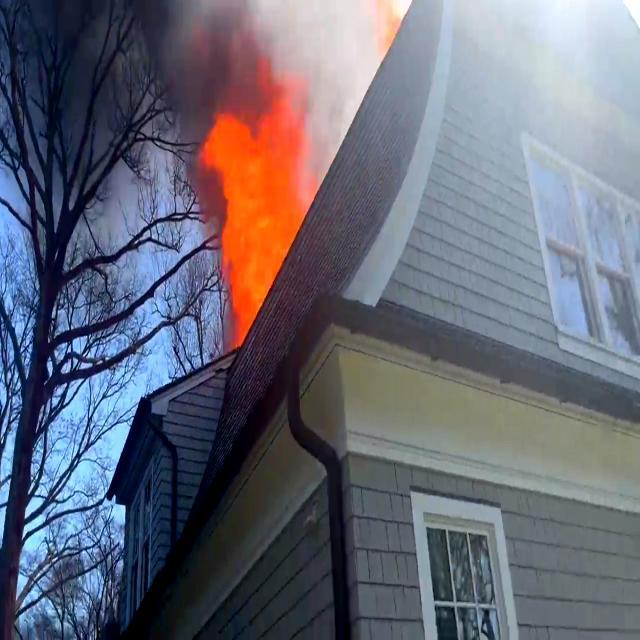Fire: (189, 90, 324, 346)
Smoke: (24, 0, 263, 124)
